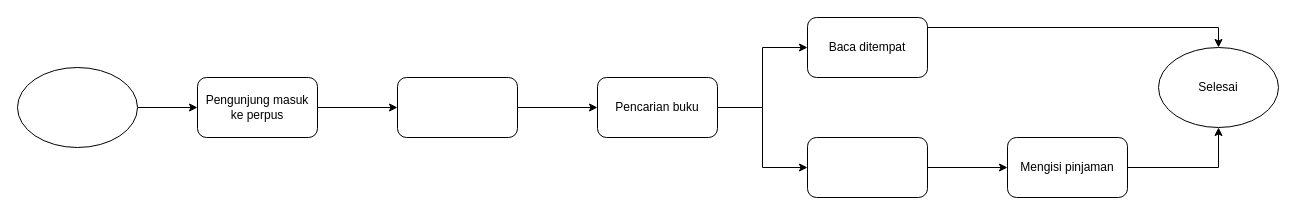
The diagram is 1296 pixels wide and 215 high, and some of its shapes have lost their labels. The shapes that lost their labels are listed below. From the top down, each one's centre as x and y in pixels, then its label:
At point 77,107: "Mulai".
At point 457,107: "Mengisi buku kunjungan".
At point 867,167: "Pinjam buku".
